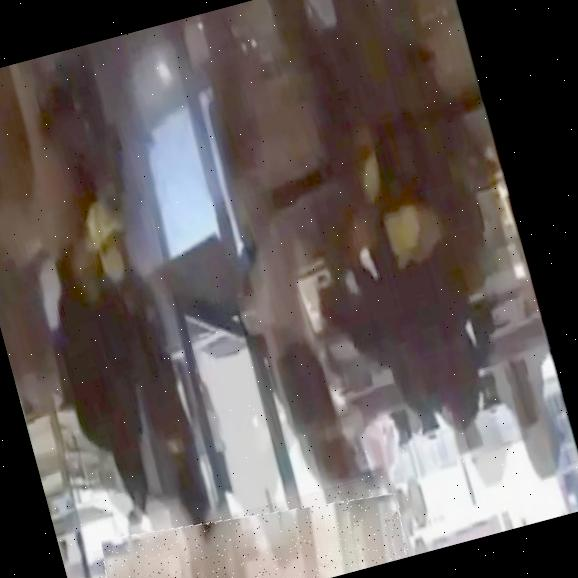smoke: (92, 472, 409, 578)
